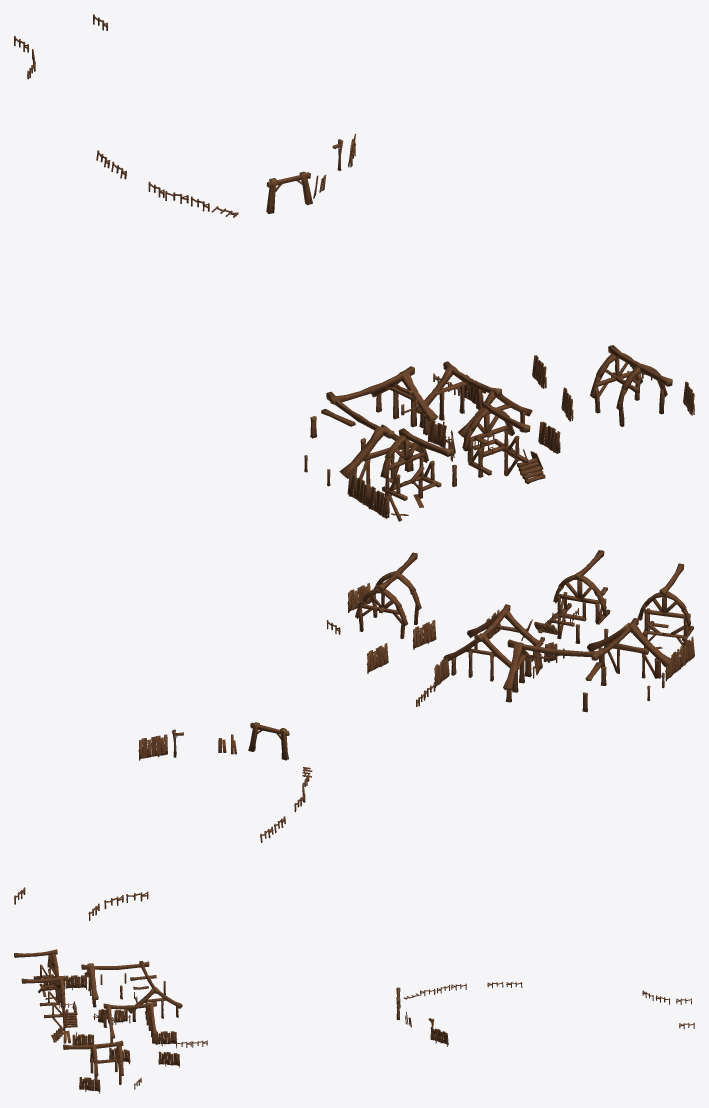
File: WoodBlockOne.FBX
The picture shows the model from 3 angles, top to bottom: view 1: azimuth 30°, elevation 25°; view 2: azimuth 150°, elevation 25°; view 3: azimuth 270°, elevation 25°; orthographic projection. The views are drawn at different scales.
Parts seen in each view (by area): view 1: WoodMaterialOne; view 2: WoodMaterialOne; view 3: WoodMaterialOne.
Boxes of the visible parts, box(x1,y1,x2,y2) form: WoodMaterialOne: box(14, 14, 694, 521); WoodMaterialOne: box(14, 550, 694, 920); WoodMaterialOne: box(14, 949, 694, 1093).
Size of the model in its own units: 102 by 24.88 by 271.
